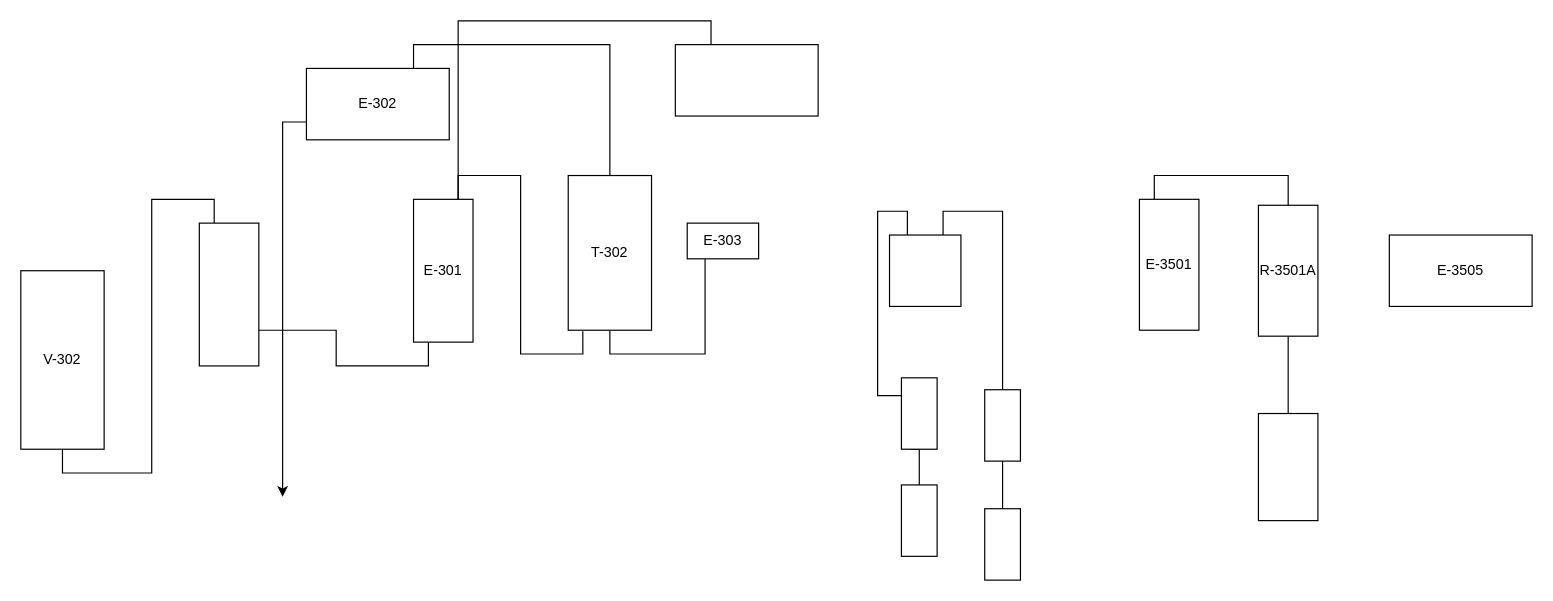
Image size: 1553x601. Some labels were removed from this diagram. Here are the shapes that lost their labels. From the top down, the centre of each, then its label:
pixel 746 79: V-301
pixel 924 270: C4
pixel 228 294: T-301
pixel 1287 466: R-3501B
